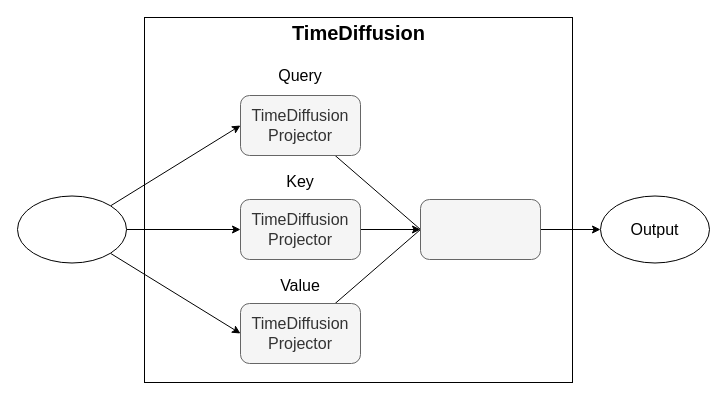
The diagram is 727 pixels wide and 400 high, and some of its shapes have lost their labels. Each missing label, with the centre of its shape:
"Input" goes at (71,229).
"Vanilla attention" goes at (480,229).
